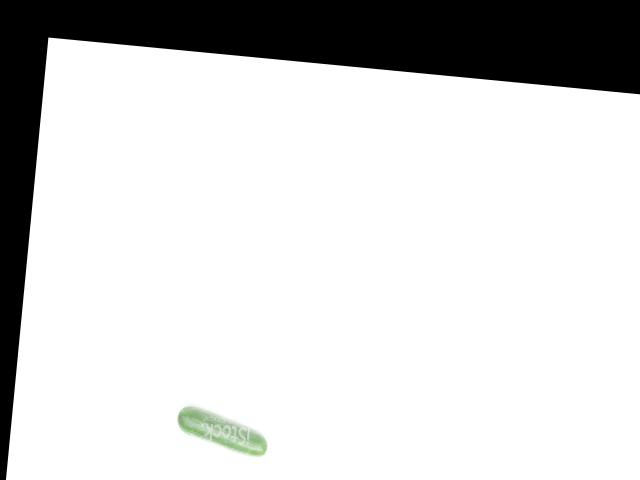cucumber: (173, 405, 270, 457)
